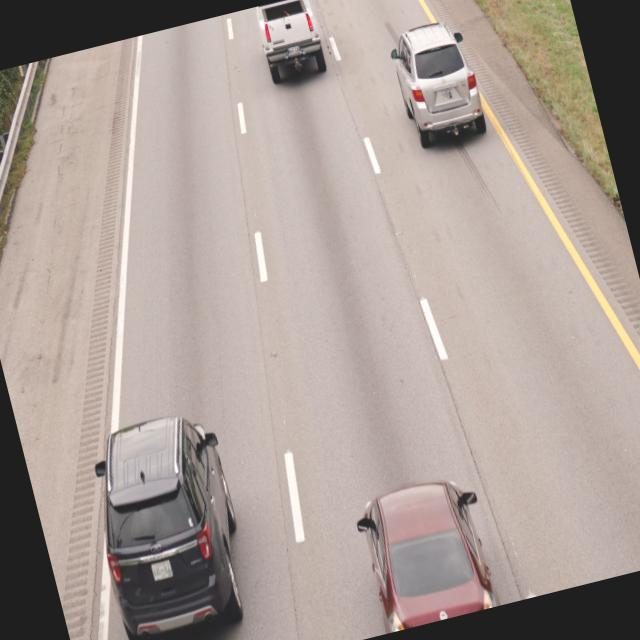Vehicle: (68, 402, 266, 640), (345, 467, 508, 635), (382, 13, 490, 154), (247, 0, 329, 90)
